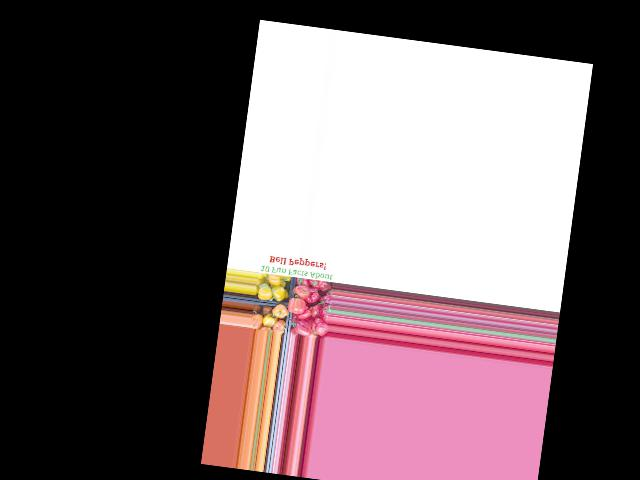bell_pepper: (303, 276, 327, 292)
